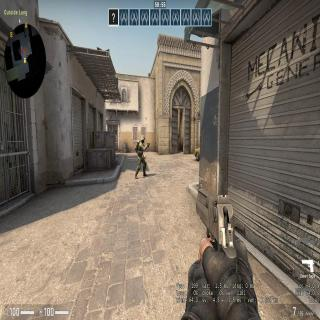CT-Body: (135, 136, 149, 173)
CT-Head: (140, 137, 145, 143)
